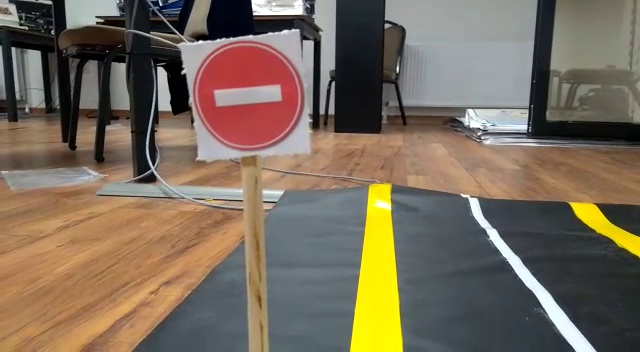girisi_olmayan_yol: (179, 42, 315, 156)
